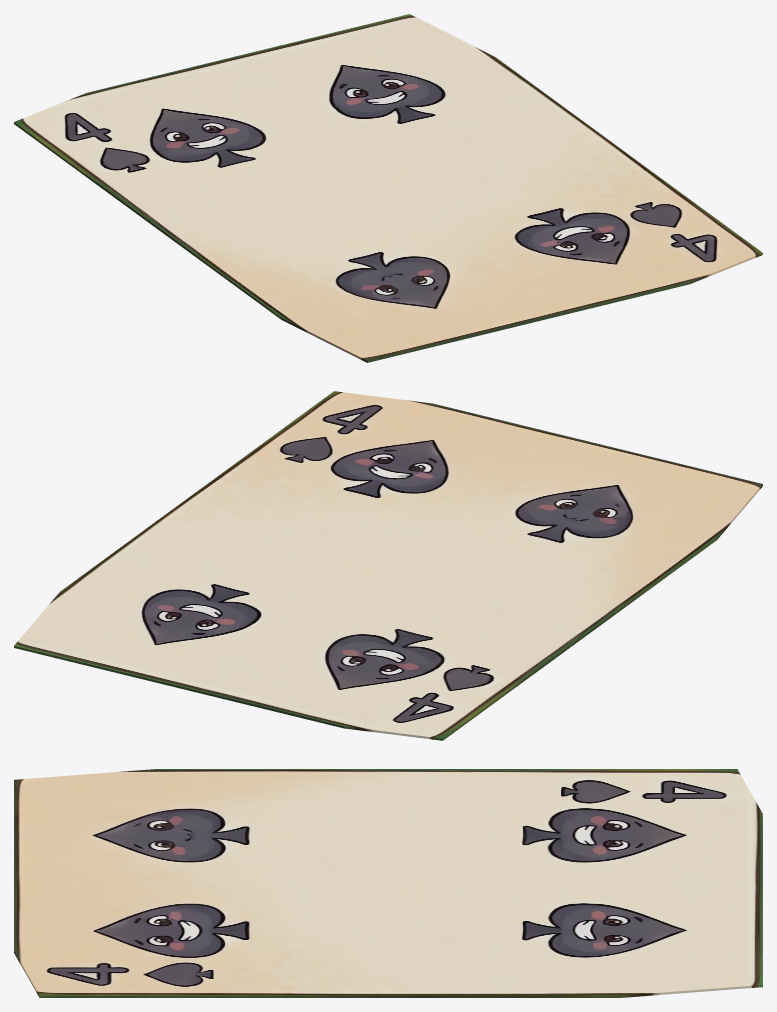
The model's file is Carta_Poker_Cartoon_4_Picas.glb.
3 renders of one model, top to bottom at view 1: azimuth 30°, elevation 25°; view 2: azimuth 150°, elevation 25°; view 3: azimuth 270°, elevation 25°, orthographic. The views are drawn at different scales.
Visible parts, largest first — view 1: Carta_Poker_Cartoon_4_Picas; view 2: Carta_Poker_Cartoon_4_Picas; view 3: Carta_Poker_Cartoon_4_Picas.
Part boxes in pixels (x1=…): Carta_Poker_Cartoon_4_Picas: x1=14, y1=14, x2=762, y2=362; Carta_Poker_Cartoon_4_Picas: x1=14, y1=391, x2=762, y2=740; Carta_Poker_Cartoon_4_Picas: x1=14, y1=769, x2=762, y2=997.
Size of the model in its own units: 0.063 by 0.0003 by 0.088.
1 material, 1 textured.
